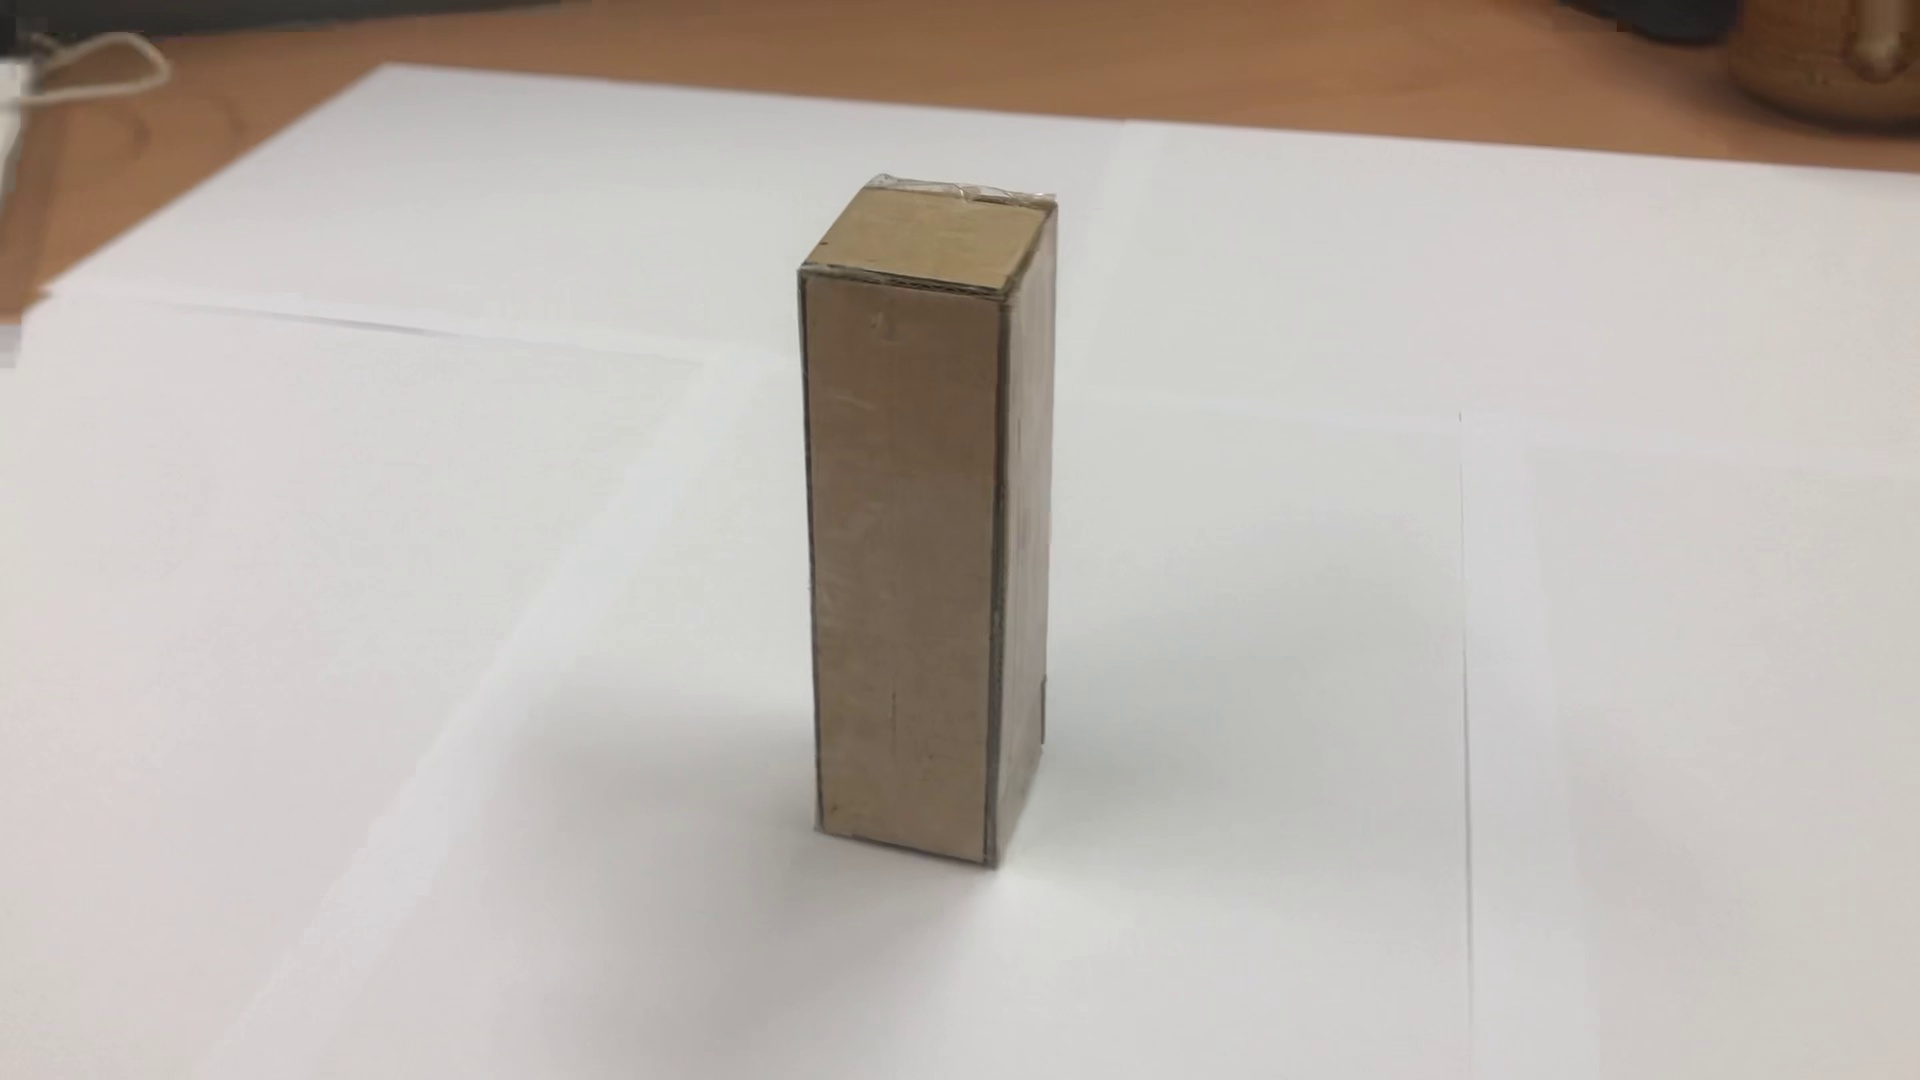box: (771, 152, 1084, 923)
